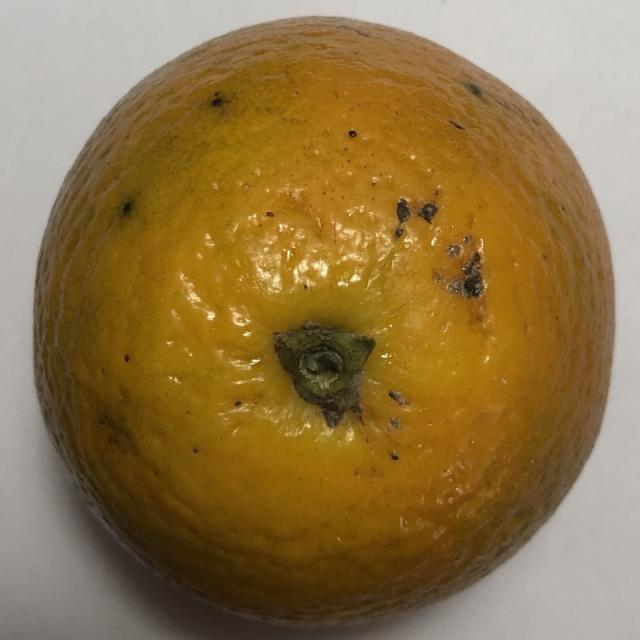blackspot: (12, 4, 616, 633)
